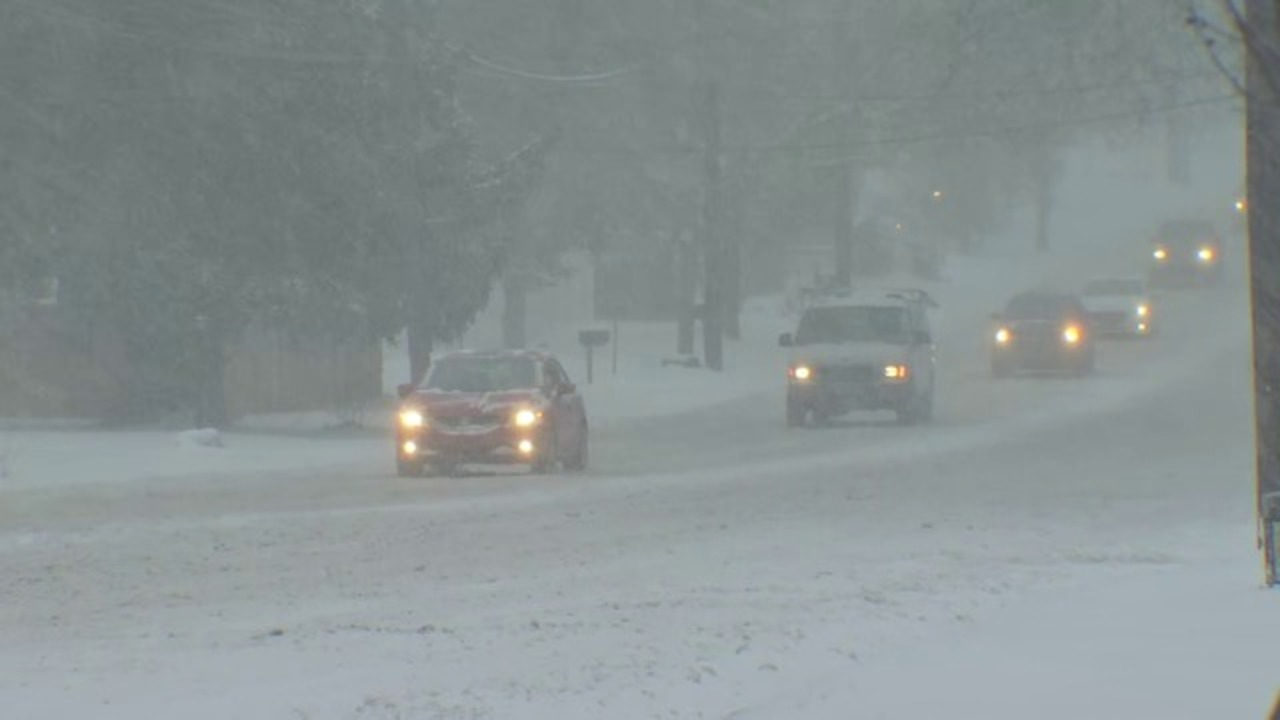car: (389, 347, 589, 479), (772, 294, 947, 428), (985, 293, 1095, 378), (1151, 215, 1223, 285), (1082, 270, 1155, 337)
